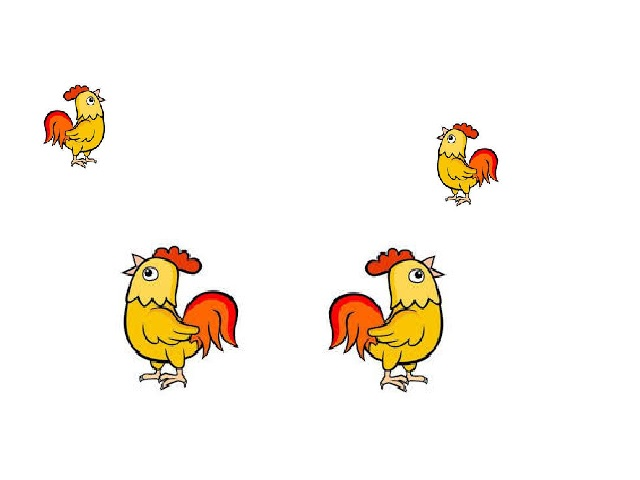crown: (152, 247, 203, 275), (366, 248, 413, 274), (60, 84, 88, 100), (456, 123, 480, 138)
eyes: (143, 266, 160, 284), (410, 268, 425, 285), (447, 135, 458, 146), (87, 97, 95, 107)
feet: (139, 369, 191, 391), (379, 367, 430, 389), (68, 155, 100, 170), (446, 193, 472, 210)
tail: (331, 291, 383, 359), (179, 292, 230, 356), (42, 110, 75, 146), (472, 147, 497, 187)
